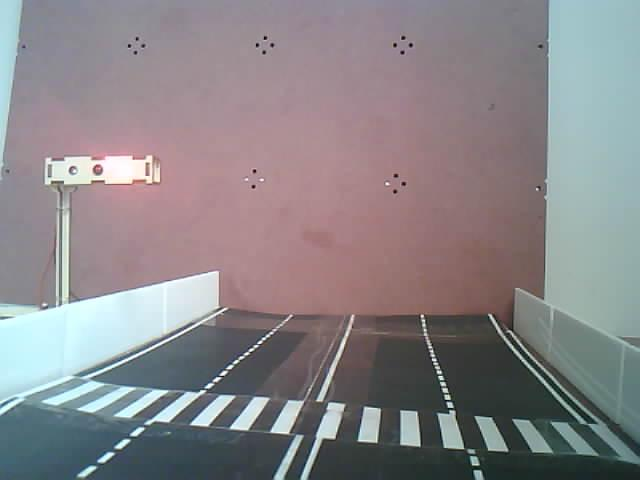crosswalk: (2, 370, 638, 460)
red: (35, 147, 165, 194)
